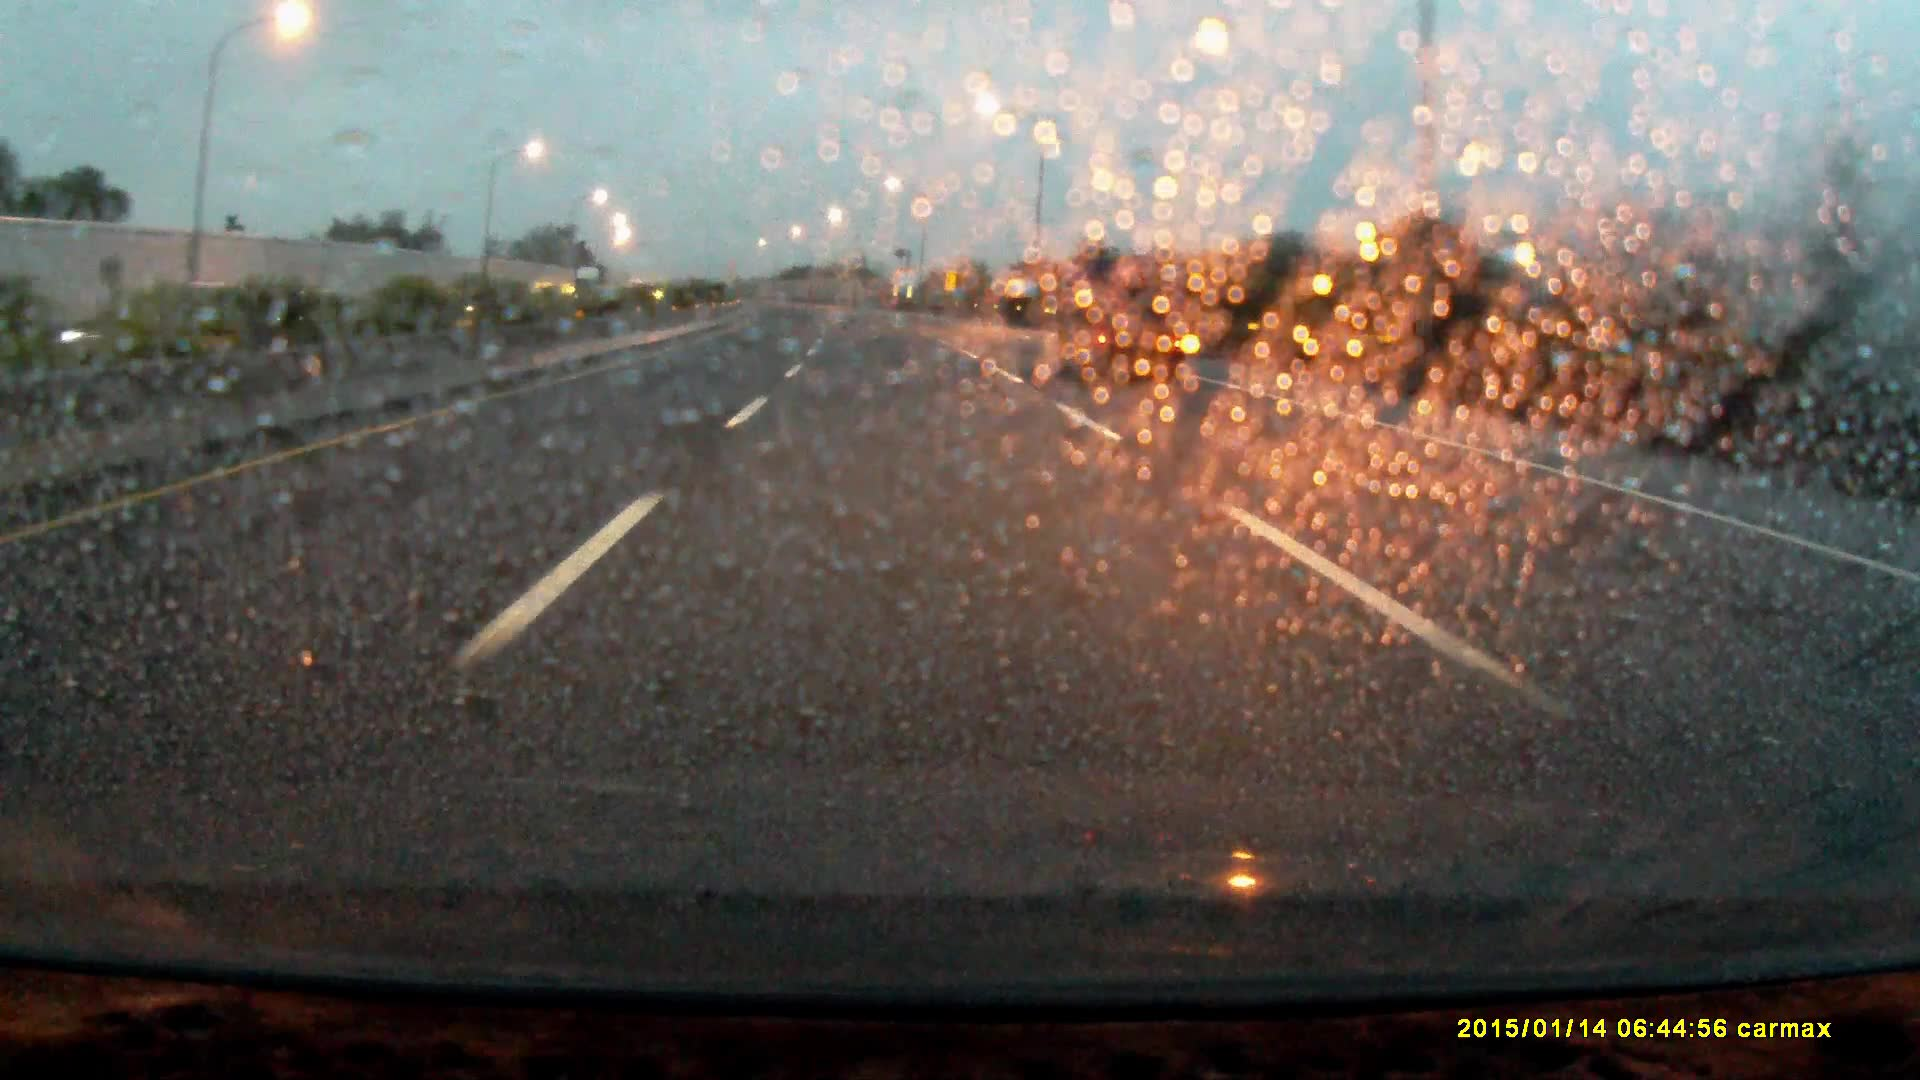vehicle: (1054, 257, 1192, 393), (574, 262, 608, 309)
